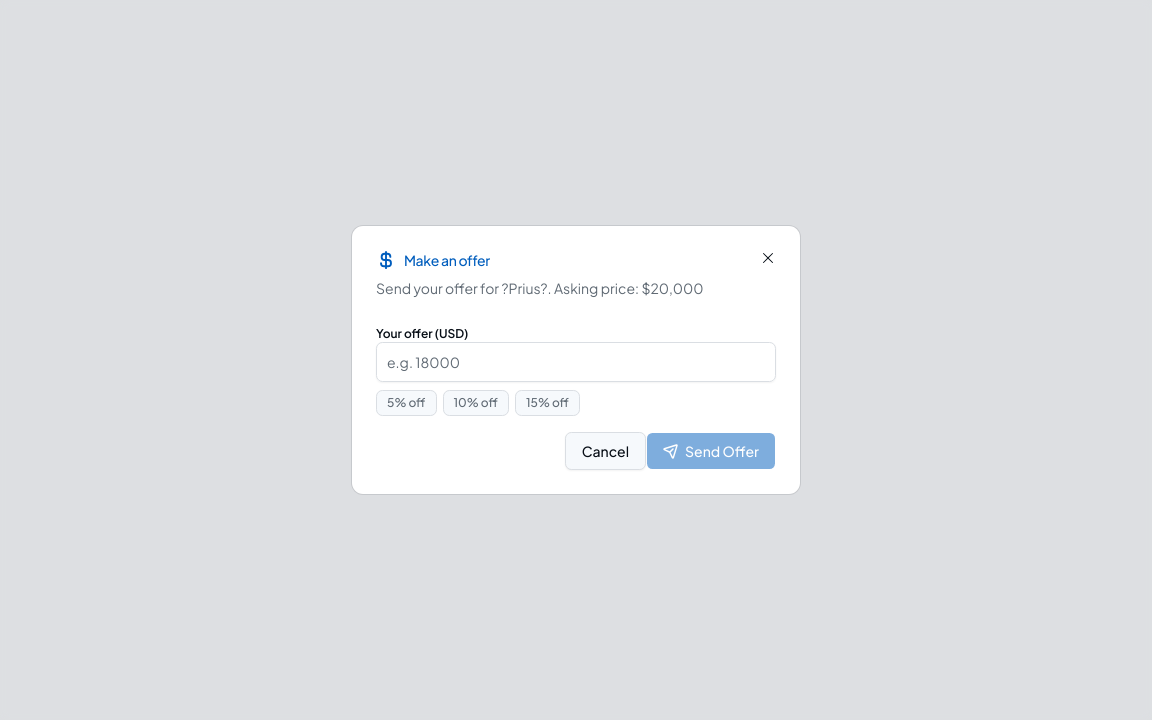
Test: <ListingMakeOfferDialog /> › starts the real conversation and then sends the offer in the listing currency
The width and height of the screenshot is (1152, 720).
Type "18000" into the number field labelled "Your offer (USD)" at (576, 362), box [376,342,776,382]
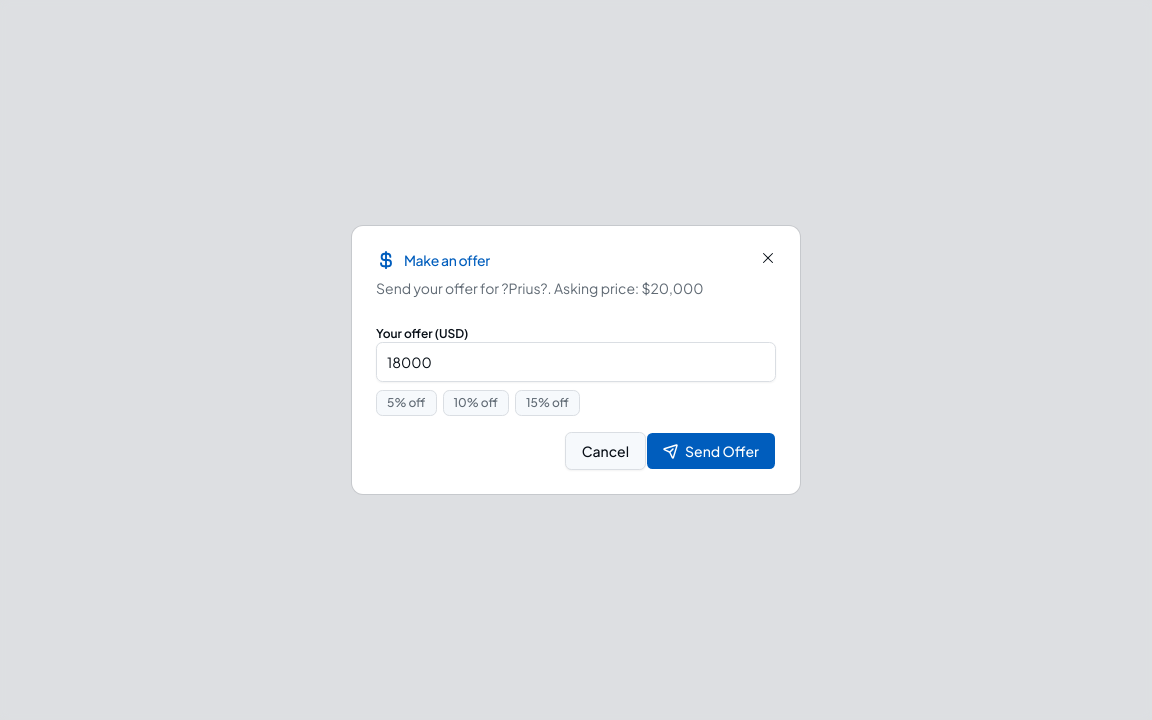
Click the button "Send Offer" at (711, 451), box [646,432,776,470]
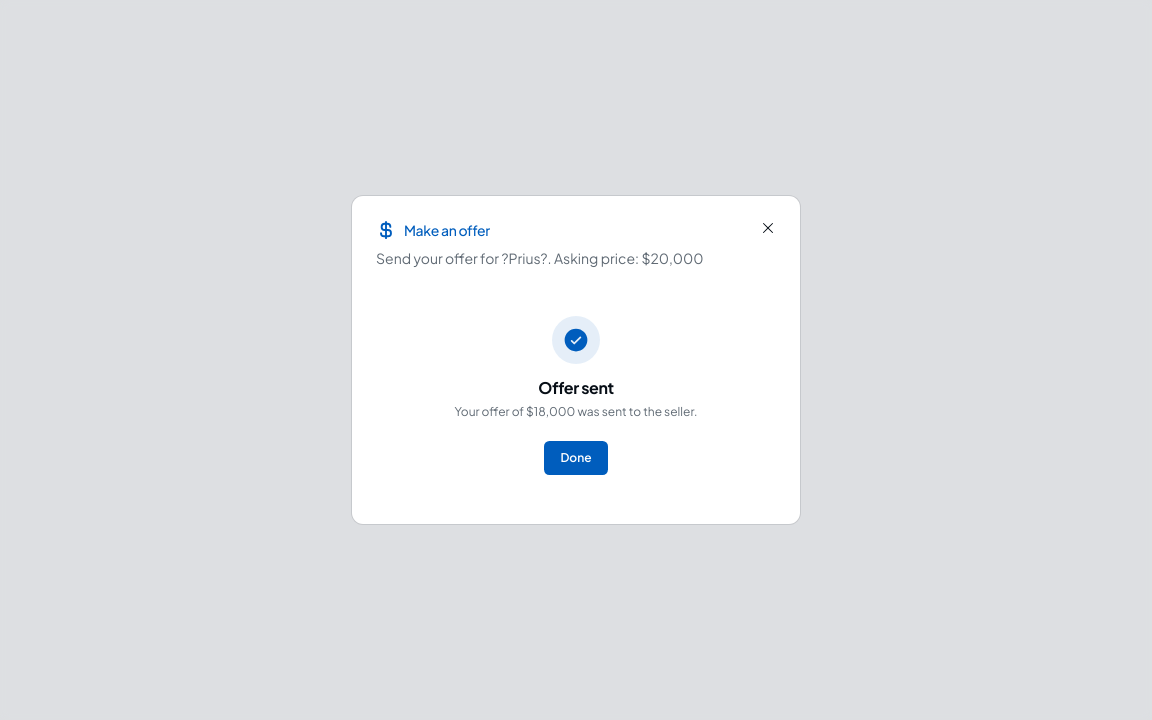
Now the heading "Offer sent" is shown, box [538,377,614,398]
